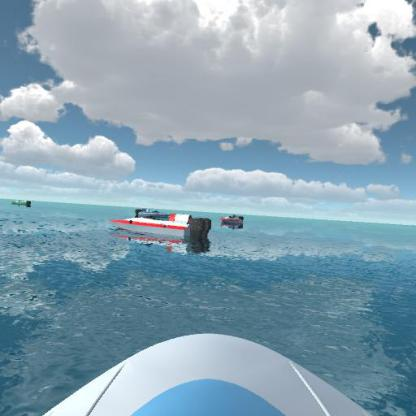usv0: (7, 197, 35, 208)
usv1: (134, 204, 175, 223)
usv3: (108, 208, 214, 252), (218, 208, 246, 228)
